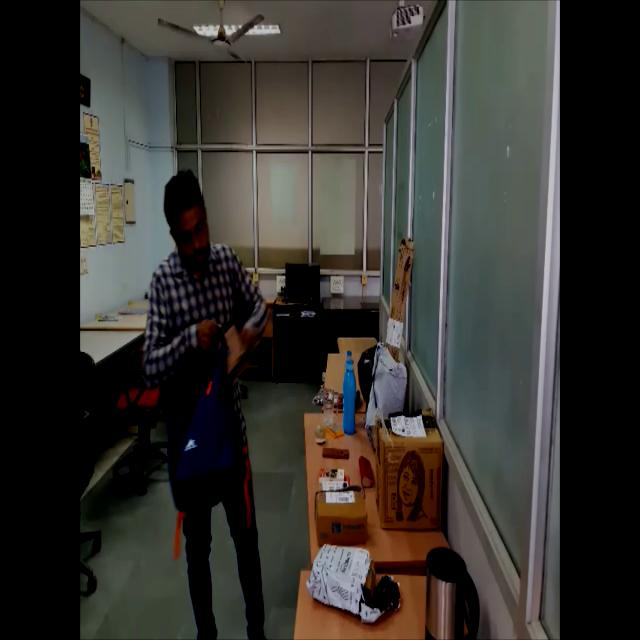shoplifting: (136, 158, 263, 640)
